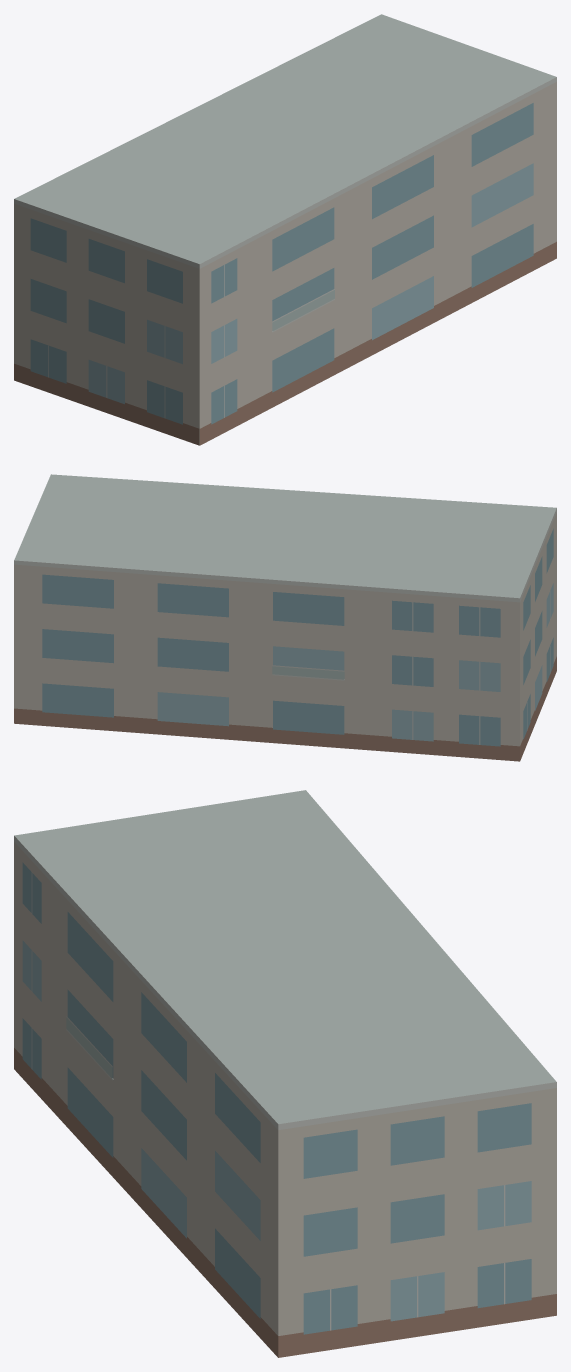
The model's file is survey-upis-33006513.glb.
3 renders of one model, top to bottom at view 1: azimuth 30°, elevation 25°; view 2: azimuth 150°, elevation 25°; view 3: azimuth 270°, elevation 25°, orthographic. The views are drawn at different scales.
Visible parts, largest first — view 1: survey-upis-33006513.tmp; view 2: survey-upis-33006513.tmp; view 3: survey-upis-33006513.tmp.
Boxes of the visible parts, left/top/right/bottom form: survey-upis-33006513.tmp: left=14, top=14, right=556, bottom=445; survey-upis-33006513.tmp: left=14, top=474, right=556, bottom=761; survey-upis-33006513.tmp: left=14, top=790, right=556, bottom=1357.
Bounding box in the file's own units: 29.47 × 9.6 × 20.22.
